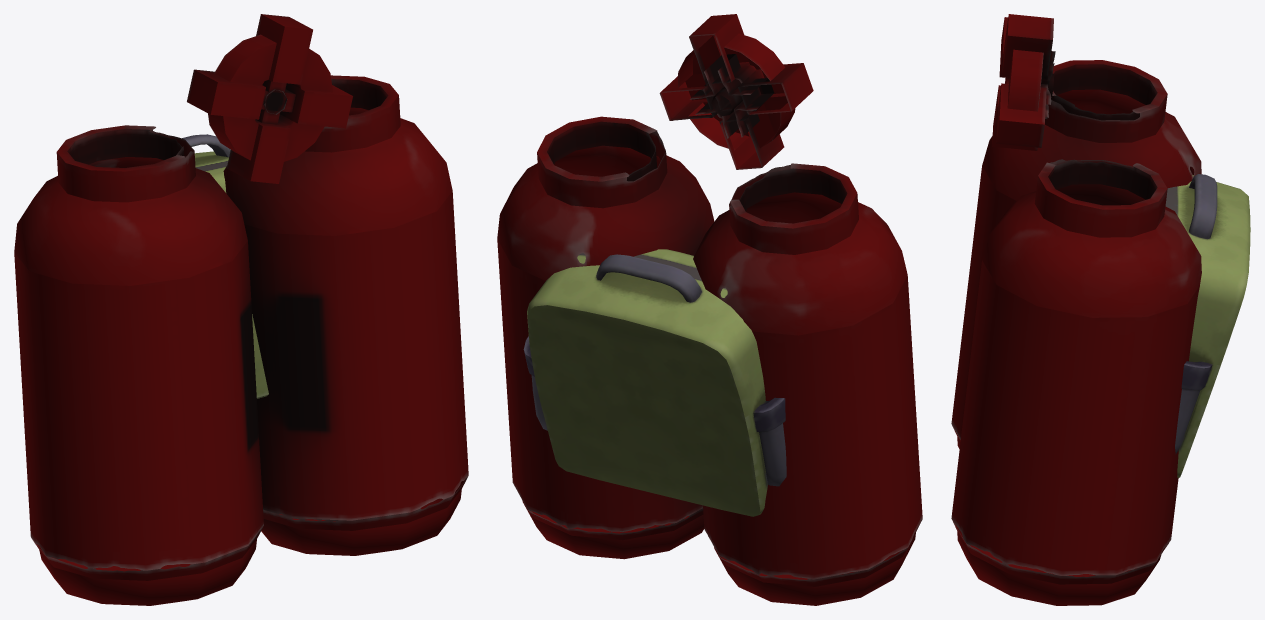
Rendered from IG_Backpack_SBossFire_ResElec.fbx.
3 renders of one model, left to right at view 1: azimuth 30°, elevation 25°; view 2: azimuth 150°, elevation 25°; view 3: azimuth 270°, elevation 25°, orthographic. The views are drawn at different scales.
Parts seen in each view (by area): view 1: Boss_Horsemen_R_Backpack, Backpack_LV1; view 2: Boss_Horsemen_R_Backpack, Backpack_LV1; view 3: Boss_Horsemen_R_Backpack, Backpack_LV1.
Boxes of the visible parts, <box> form: Boss_Horsemen_R_Backpack: <box>14,14,468,605</box>; Backpack_LV1: <box>182,134,268,398</box>; Boss_Horsemen_R_Backpack: <box>497,14,922,605</box>; Backpack_LV1: <box>523,249,786,516</box>; Boss_Horsemen_R_Backpack: <box>951,14,1201,605</box>; Backpack_LV1: <box>1165,174,1250,477</box>.
Size of the model in its own units: 0.6334 by 0.8248 by 0.4255.
